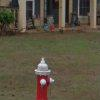Hydrant: (27, 49, 55, 100)
